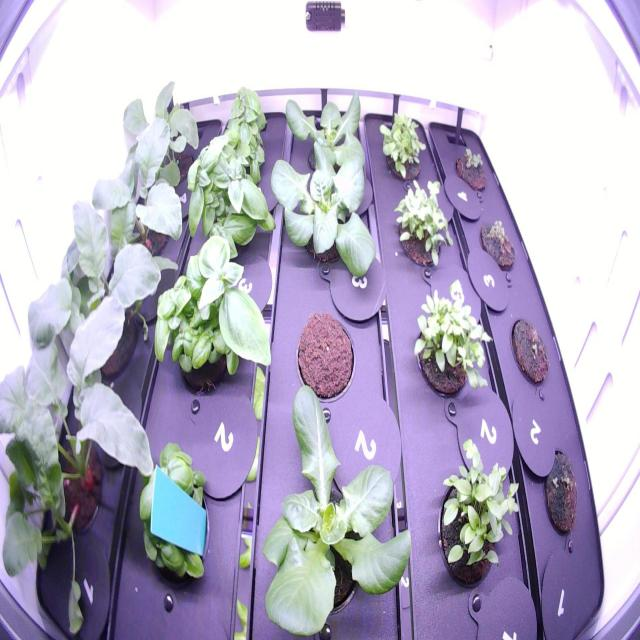germination: (538, 438, 585, 547), (508, 310, 552, 391), (473, 210, 519, 278), (448, 139, 493, 200)
pod: (290, 305, 360, 407)
young: (254, 375, 417, 640), (261, 138, 382, 284), (270, 84, 375, 191)
